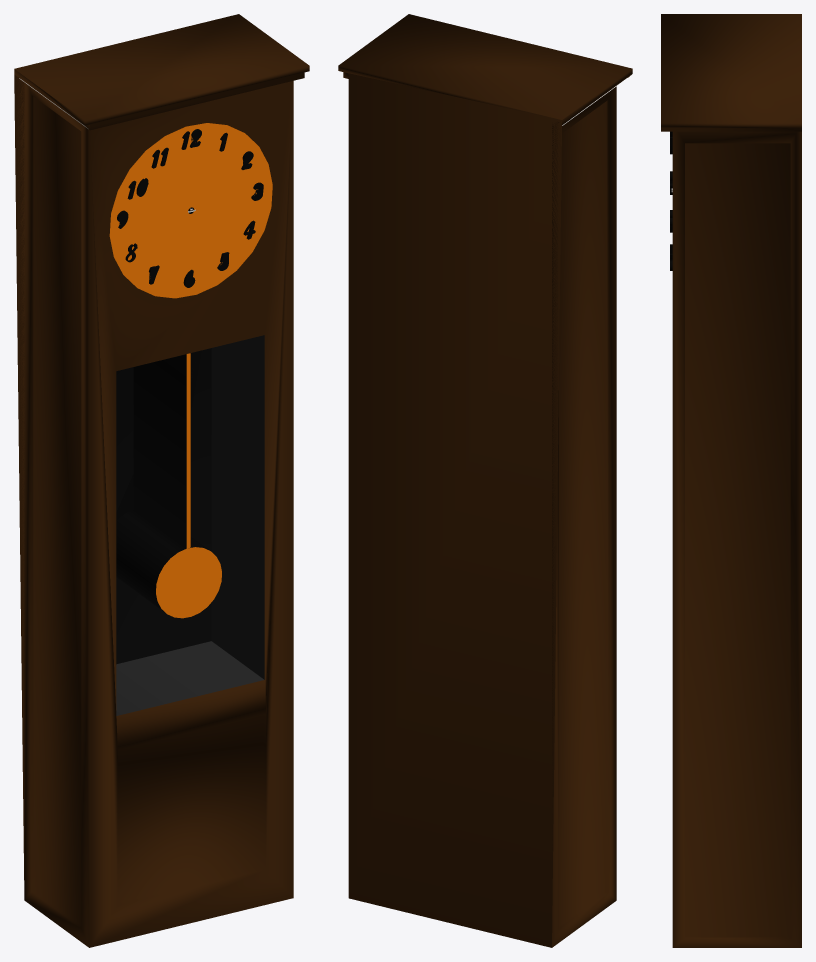
Rendered from grandfather.obj.
3 views of the same model, side by side, from view 1: azimuth 30°, elevation 25°; view 2: azimuth 150°, elevation 25°; view 3: azimuth 270°, elevation 25° (orthographic).
Visible parts, largest first — view 1: grp3, grp6, grp7, grp5, grp1; view 2: grp3; view 3: grp3.
Boxes of the visible parts, x1,y1,x2,y2 form: grp3: [14, 14, 309, 947]; grp6: [109, 123, 272, 618]; grp7: [116, 207, 211, 664]; grp5: [116, 335, 264, 715]; grp1: [117, 129, 263, 287]; grp3: [338, 14, 632, 947]; grp3: [661, 14, 801, 947].
Size of the model in its own units: 22 by 78 by 12.
